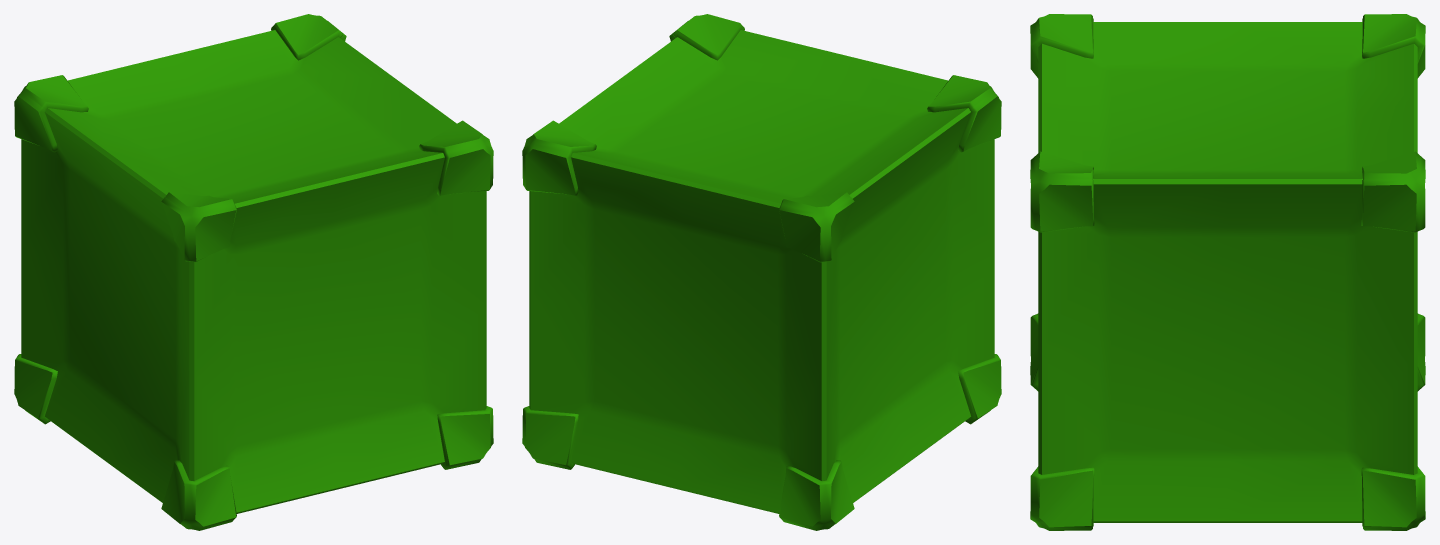
The model's file is Me_BoxPropRemake.FBX.
3 renders of one model, left to right at view 1: azimuth 30°, elevation 25°; view 2: azimuth 150°, elevation 25°; view 3: azimuth 270°, elevation 25°, orthographic. The views are drawn at different scales.
Parts seen in each view (by area): view 1: BoxSciFiUvNoOverlap; view 2: BoxSciFiUvNoOverlap; view 3: BoxSciFiUvNoOverlap.
Part boxes in pixels (x1=…): BoxSciFiUvNoOverlap: x1=14, y1=14, x2=493, y2=530; BoxSciFiUvNoOverlap: x1=522, y1=14, x2=1001, y2=530; BoxSciFiUvNoOverlap: x1=1030, y1=14, x2=1425, y2=530.
Bounding box in the file's own units: 61.79 × 61.79 × 61.79.
